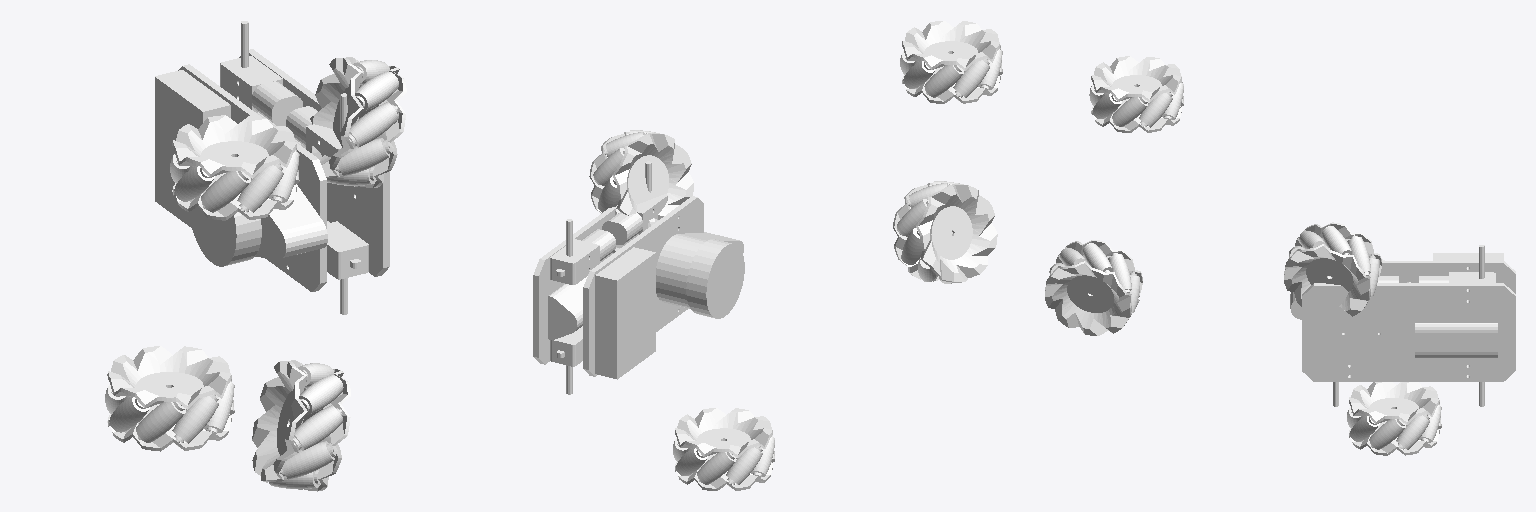
URDF robot description (robotmodel):
<?xml version="1.0" encoding="utf-8"?>
<!-- This URDF was automatically created by SolidWorks to URDF Exporter! Originally created by [author] ([email redacted]) 
     Commit Version: 1.5.0-0-g9aa0fdb  Build Version: 1.5.7004.21443
     For more information, please see http://wiki.ros.org/sw_urdf_exporter -->
<robot
  name="robotmodel">
  <link
    name="base_link">
    <inertial>
      <origin
        xyz="-0.0501876592412307 0.00093519315488593 0.178854504565472"
        rpy="0 0 0" />
      <mass
        value="0.587150016316003" />
      <inertia
        ixx="0.00181290859311215"
        ixy="1.26117746250476E-05"
        ixz="0.000203803600988231"
        iyy="0.00195179343532238"
        iyz="-1.69097934867418E-05"
        izz="0.000821785958468361" />
    </inertial>
    <visual>
      <origin
        xyz="0 0 0"
        rpy="0 0 0" />
      <geometry>
        <mesh
          filename="package://robotmodel/meshes/base_link.STL" />
      </geometry>
      <material
        name="">
        <color
          rgba="1 1 1 1" />
      </material>
    </visual>
    <collision>
      <origin
        xyz="0 0 0"
        rpy="0 0 0" />
      <geometry>
        <mesh
          filename="package://robotmodel/meshes/base_link.STL" />
      </geometry>
    </collision>
  </link>
  <link
    name="Link1">
    <inertial>
      <origin
        xyz="-5.0294E-10 7.0525E-05 -5.9938E-10"
        rpy="0 0 0" />
      <mass
        value="0.073422" />
      <inertia
        ixx="4.1987E-05"
        ixy="-6.4139E-12"
        ixz="8.0228E-12"
        iyy="7.2258E-05"
        iyz="5.3766E-12"
        izz="4.1987E-05" />
    </inertial>
    <visual>
      <origin
        xyz="0 0 0"
        rpy="0 0 0" />
      <geometry>
        <mesh
          filename="package://robotmodel/meshes/Link1.STL" />
      </geometry>
      <material
        name="">
        <color
          rgba="1 1 1 1" />
      </material>
    </visual>
    <collision>
      <origin
        xyz="0 0 0"
        rpy="0 0 0" />
      <geometry>
        <mesh
          filename="package://robotmodel/meshes/Link1.STL" />
      </geometry>
    </collision>
  </link>
  <joint
    name="joint1"
    type="continuous">
    <origin
      xyz="-0.026157 -0.11848 -0.064226"
      rpy="1.5708 0 -0.69813" />
    <parent
      link="base_link" />
    <child
      link="Link1" />
    <axis
      xyz="0 0 0" />
    <limit
      lower="-6.28"
      upper="6.28"
      effort="100"
      velocity="1" />
    <safety_controller
      k_velocity="0" />
  </joint>
  <link
    name="Link2">
    <inertial>
      <origin
        xyz="-0.027796 0.020607 0.0010926"
        rpy="0 0 0" />
      <mass
        value="0.073422" />
      <inertia
        ixx="6.9613E-05"
        ixy="8.4656E-06"
        ixz="-1.126E-06"
        iyy="4.4636E-05"
        iyz="-3.493E-07"
        izz="4.1984E-05" />
    </inertial>
    <visual>
      <origin
        xyz="0 0 0"
        rpy="0 0 0" />
      <geometry>
        <mesh
          filename="package://robotmodel/meshes/Link2.STL" />
      </geometry>
      <material
        name="">
        <color
          rgba="1 1 1 1" />
      </material>
    </visual>
    <collision>
      <origin
        xyz="0 0 0"
        rpy="0 0 0" />
      <geometry>
        <mesh
          filename="package://robotmodel/meshes/Link2.STL" />
      </geometry>
    </collision>
  </link>
  <joint
    name="joint2"
    type="continuous">
    <origin
      xyz="-0.052613 -0.10998 0.046988"
      rpy="-1.4456 1.2728 2.9617" />
    <parent
      link="base_link" />
    <child
      link="Link2" />
    <axis
      xyz="0 0 0" />
    <limit
      lower="-6.28"
      upper="6.28"
      effort="100"
      velocity="1" />
    <safety_controller
      k_velocity="0" />
  </joint>
  <link
    name="Link3">
    <inertial>
      <origin
        xyz="-0.027796 0.020607 0.0010926"
        rpy="0 0 0" />
      <mass
        value="0.073422" />
      <inertia
        ixx="6.9613E-05"
        ixy="8.4656E-06"
        ixz="-1.126E-06"
        iyy="4.4636E-05"
        iyz="-3.493E-07"
        izz="4.1984E-05" />
    </inertial>
    <visual>
      <origin
        xyz="0 0 0"
        rpy="0 0 0" />
      <geometry>
        <mesh
          filename="package://robotmodel/meshes/Link3.STL" />
      </geometry>
      <material
        name="">
        <color
          rgba="1 1 1 1" />
      </material>
    </visual>
    <collision>
      <origin
        xyz="0 0 0"
        rpy="0 0 0" />
      <geometry>
        <mesh
          filename="package://robotmodel/meshes/Link3.STL" />
      </geometry>
    </collision>
  </link>
  <joint
    name="joint3"
    type="continuous">
    <origin
      xyz="-0.052613 -0.23303 -0.084812"
      rpy="-1.4456 1.2728 2.9617" />
    <parent
      link="base_link" />
    <child
      link="Link3" />
    <axis
      xyz="0 0 0" />
    <limit
      lower="-6.28"
      upper="6.28"
      effort="100"
      velocity="1" />
    <safety_controller
      k_velocity="0" />
  </joint>
  <link
    name="Link4">
    <inertial>
      <origin
        xyz="-5.0294E-10 7.0525E-05 -5.9938E-10"
        rpy="0 0 0" />
      <mass
        value="0.073422" />
      <inertia
        ixx="4.1987E-05"
        ixy="-6.4139E-12"
        ixz="8.0228E-12"
        iyy="7.2258E-05"
        iyz="5.3766E-12"
        izz="4.1987E-05" />
    </inertial>
    <visual>
      <origin
        xyz="0 0 0"
        rpy="0 0 0" />
      <geometry>
        <mesh
          filename="package://robotmodel/meshes/Link4.STL" />
      </geometry>
      <material
        name="">
        <color
          rgba="1 1 1 1" />
      </material>
    </visual>
    <collision>
      <origin
        xyz="0 0 0"
        rpy="0 0 0" />
      <geometry>
        <mesh
          filename="package://robotmodel/meshes/Link4.STL" />
      </geometry>
    </collision>
  </link>
  <joint
    name="joint4"
    type="continuous">
    <origin
      xyz="-0.026157 -0.24152 0.067574"
      rpy="1.5708 0 -0.69813" />
    <parent
      link="base_link" />
    <child
      link="Link4" />
    <axis
      xyz="0 0 0" />
    <limit
      lower="-6.28"
      upper="6.28"
      effort="100"
      velocity="1" />
    <safety_controller
      k_velocity="0" />
  </joint>
</robot>

--- What the picture shows (computed from the rendered views, not written in the file) ---
The picture shows the robot from 3 angles, left to right: view 1: azimuth 30°, elevation 25°; view 2: azimuth 150°, elevation 25°; view 3: azimuth 270°, elevation 25°; orthographic projection.
Model robotmodel with 5 links and 4 joints (4 continuous), rooted at base_link, posed all joints at 0.
Visible links, largest first — view 1: base_link, Link4, Link1, Link3, Link2; view 2: base_link, Link3, Link4, Link1, Link2; view 3: base_link, Link3, Link4, Link1, Link2.
Boxes of the visible links, bbox=[...] form: base_link: bbox=[155, 21, 389, 314]; Link4: bbox=[170, 115, 299, 220]; Link1: bbox=[105, 346, 234, 451]; Link3: bbox=[252, 360, 350, 491]; Link2: bbox=[310, 57, 406, 187]; base_link: bbox=[533, 161, 744, 394]; Link3: bbox=[893, 181, 997, 283]; Link4: bbox=[900, 21, 1002, 103]; Link1: bbox=[673, 408, 774, 490]; Link2: bbox=[589, 130, 693, 227]; base_link: bbox=[1290, 245, 1515, 406]; Link3: bbox=[1045, 240, 1142, 335]; Link4: bbox=[1089, 56, 1183, 132]; Link1: bbox=[1347, 382, 1441, 455]; Link2: bbox=[1284, 222, 1381, 316].
Size in the robot's own frame: 0.2555 by 0.3977 by 0.3006 metres.
Meshes: 5 distinct files referenced, 5 mesh visuals loaded (5 binary STL).